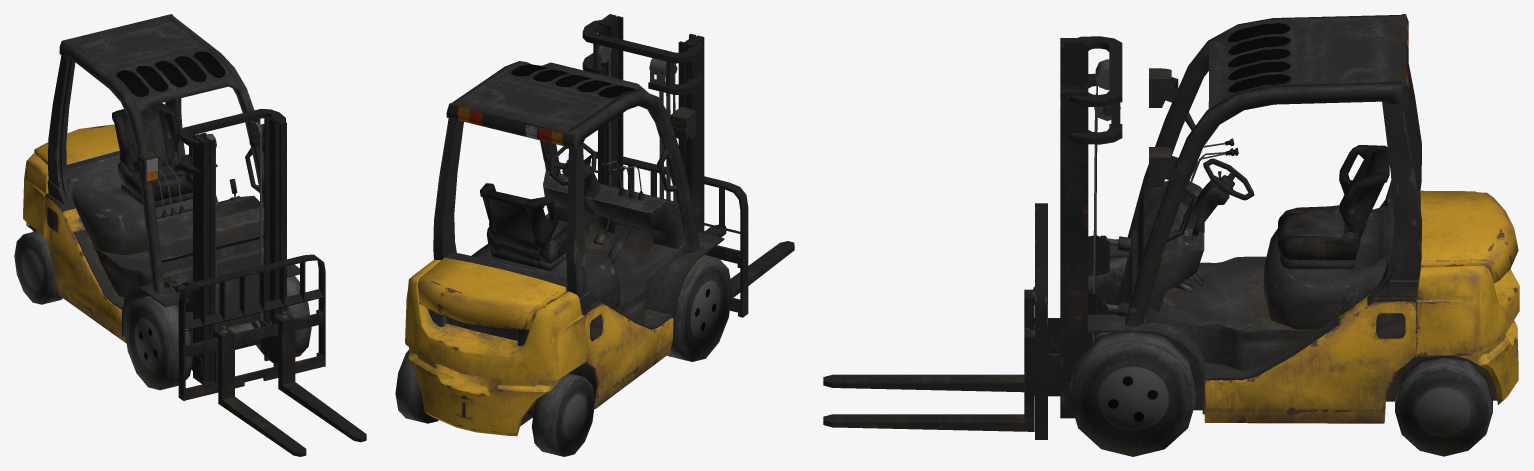
3 renders of one model, left to right at view 1: azimuth 30°, elevation 25°; view 2: azimuth 150°, elevation 25°; view 3: azimuth 270°, elevation 25°, orthographic. The views are drawn at different scales.
Parts seen in each view (by area): view 1: Loader_car; view 2: Loader_car; view 3: Loader_car.
Part boxes in pixels (<box>): Loader_car: <box>14,14,366,456</box>; Loader_car: <box>395,14,794,456</box>; Loader_car: <box>823,14,1519,456</box>.
Bounding box in the file's own units: 118 × 212 × 371.
1 material, 1 textured.
